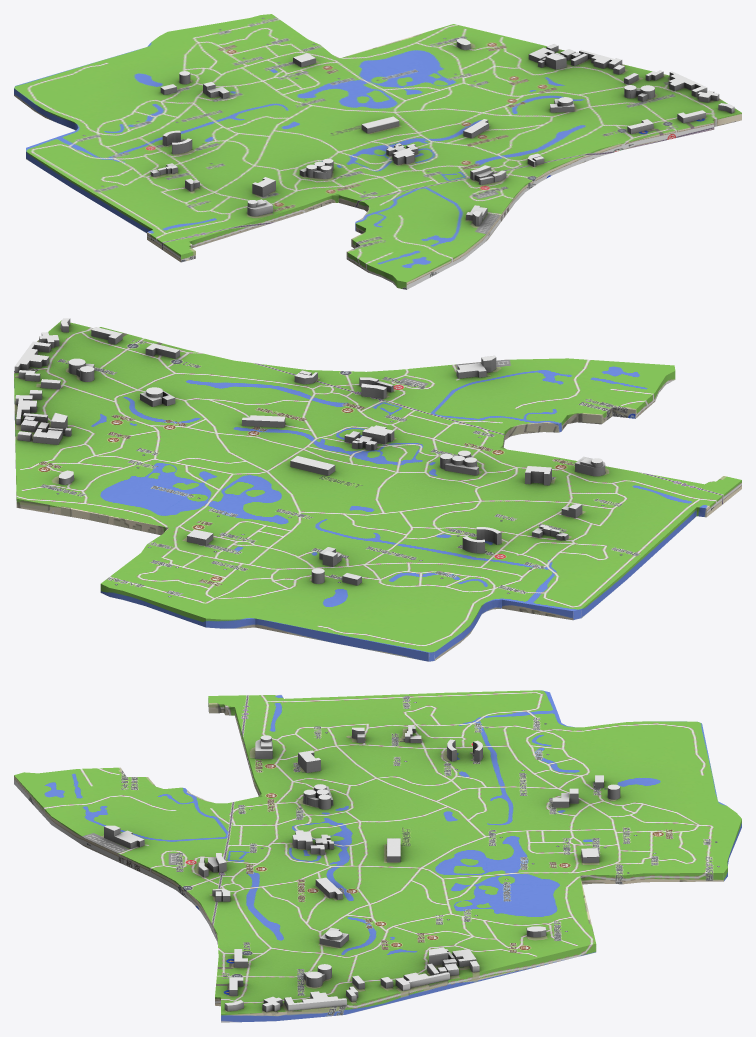
Rendered from shdwy.gltf.
The picture shows the model from 3 angles, top to bottom: view 1: azimuth 30°, elevation 25°; view 2: azimuth 150°, elevation 25°; view 3: azimuth 270°, elevation 25°; orthographic projection. The views are drawn at different scales.
Parts seen in each view (by area): view 1: pCube1, pCube49; view 2: pCube1, pCube49, pCube20; view 3: pCube1, pCube49, pCube47.
Boxes of the visible parts, x1=… form: pCube1: x1=14, y1=14, x2=741, y2=289; pCube49: x1=668, y1=71, x2=707, y2=96; pCube1: x1=14, y1=320, x2=741, y2=661; pCube49: x1=14, y1=341, x2=50, y2=372; pCube20: x1=290, y1=455, x2=335, y2=475; pCube1: x1=14, y1=690, x2=741, y2=1022; pCube49: x1=284, y1=991, x2=346, y2=1010; pCube47: x1=395, y1=972, x2=449, y2=990.
Size of the model in its own units: 20.66 by 0.6385 by 19.63.
Materials: 1 (1 with a texture image).
